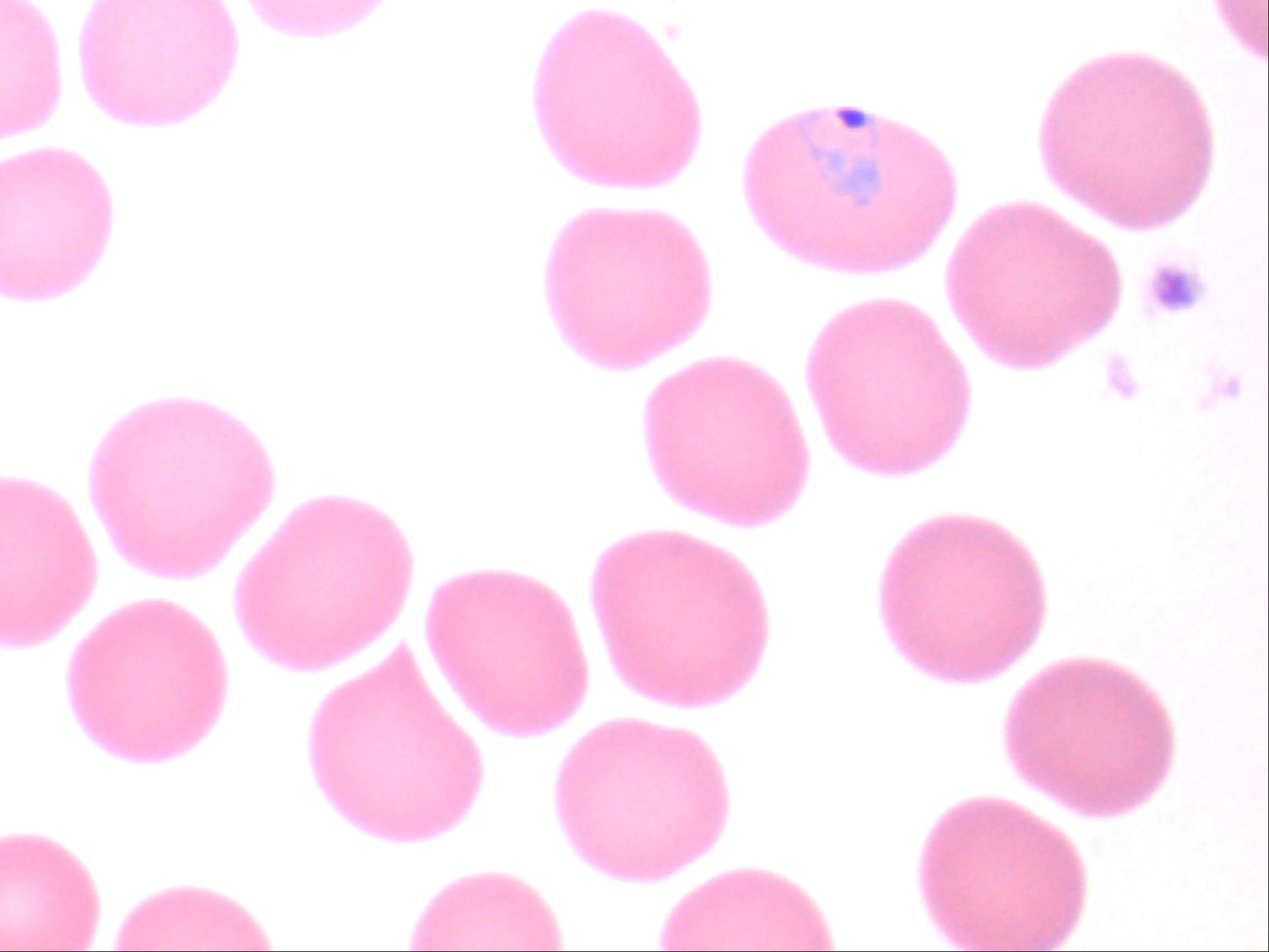Infected: (317, 680, 523, 847)
Uninfected: (1000, 374, 1179, 553), (790, 110, 961, 297), (145, 580, 323, 757), (56, 723, 229, 898), (502, 246, 675, 420), (857, 285, 1031, 453), (300, 478, 464, 652), (570, 766, 733, 941), (461, 427, 625, 595), (543, 70, 710, 232), (226, 270, 389, 435), (683, 217, 846, 381), (561, 583, 722, 742), (96, 135, 260, 291), (1045, 188, 1201, 349), (186, 2, 350, 153), (1033, 826, 1187, 951), (1159, 651, 1269, 803), (1177, 305, 1267, 469), (439, 5, 605, 81)
